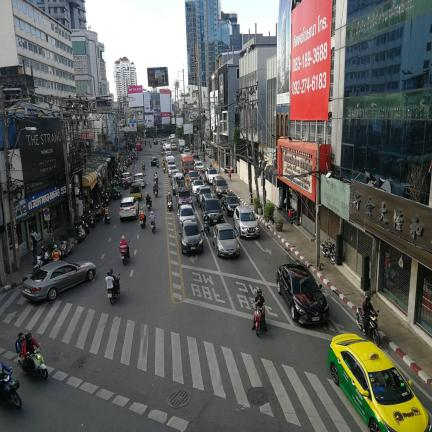car: (276, 262, 329, 324), (22, 261, 96, 301), (213, 223, 240, 256), (233, 205, 260, 237), (179, 220, 203, 253), (119, 197, 139, 221), (222, 193, 240, 215), (178, 205, 195, 227), (196, 185, 211, 207), (213, 176, 228, 197), (190, 179, 204, 196), (205, 168, 218, 184), (133, 173, 146, 187), (121, 172, 132, 186), (194, 160, 205, 171), (151, 157, 158, 166)
human: (21, 332, 40, 372), (361, 294, 376, 335), (105, 269, 117, 290), (120, 236, 130, 258), (31, 228, 37, 264), (254, 289, 265, 307), (16, 332, 24, 353), (41, 245, 49, 265), (52, 244, 61, 260), (149, 211, 156, 227), (261, 310, 266, 331), (103, 206, 109, 223), (140, 206, 146, 222), (145, 193, 152, 206), (228, 167, 232, 181), (252, 318, 255, 329)
motorbike: (0, 371, 22, 407), (27, 348, 48, 379), (366, 310, 380, 346), (252, 304, 265, 336), (107, 273, 120, 304), (321, 241, 335, 264), (58, 237, 73, 258), (119, 242, 130, 265), (130, 182, 142, 200), (33, 254, 44, 273), (356, 306, 364, 331), (78, 225, 86, 242), (81, 220, 90, 235), (95, 206, 103, 221), (113, 187, 122, 199), (89, 211, 95, 227), (204, 220, 209, 236), (18, 357, 24, 370), (105, 213, 111, 224), (140, 217, 146, 228), (104, 193, 109, 205), (167, 200, 172, 211), (147, 200, 152, 210), (151, 221, 155, 233), (47, 254, 52, 263), (154, 175, 158, 184), (154, 188, 158, 197), (124, 182, 128, 189), (142, 162, 145, 170), (163, 165, 166, 173), (156, 161, 159, 168), (149, 142, 152, 147), (135, 155, 137, 159), (111, 269, 112, 273)
pickup: (176, 187, 192, 207)
taxi: (328, 334, 431, 432)
truck: (181, 153, 194, 174), (178, 139, 185, 152)
van: (201, 193, 223, 223)
